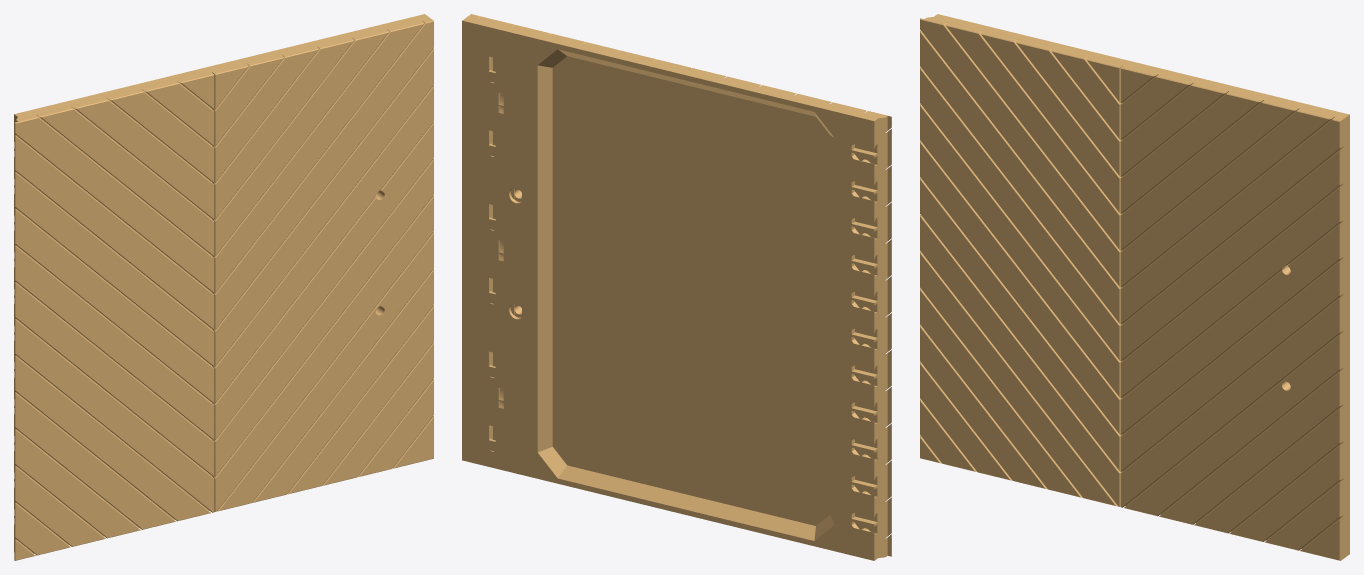
Rendered from Door_Chevron_2W-3H.lib.glb.
3 renders of one model, left to right at view 1: azimuth 30°, elevation 25°; view 2: azimuth 150°, elevation 25°; view 3: azimuth 330°, elevation 25°, orthographic.
Parts seen in each view (by area): view 1: Door_Chevron_2W-3H; view 2: Door_Chevron_2W-3H; view 3: Door_Chevron_2W-3H.
Part boxes in pixels (x1,y1,x2,y2): Door_Chevron_2W-3H: (14, 14, 433, 560); Door_Chevron_2W-3H: (462, 14, 891, 560); Door_Chevron_2W-3H: (920, 14, 1349, 560).
Size of the model in its own units: 167 by 167 by 6.51.
